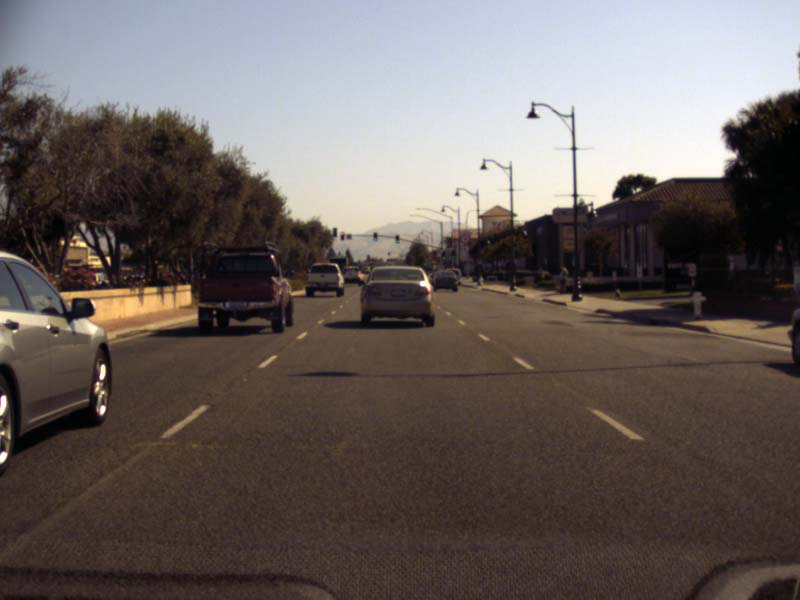Green: (373, 231, 377, 240), (442, 252, 445, 260), (395, 234, 398, 242)
Red: (340, 231, 343, 241)
